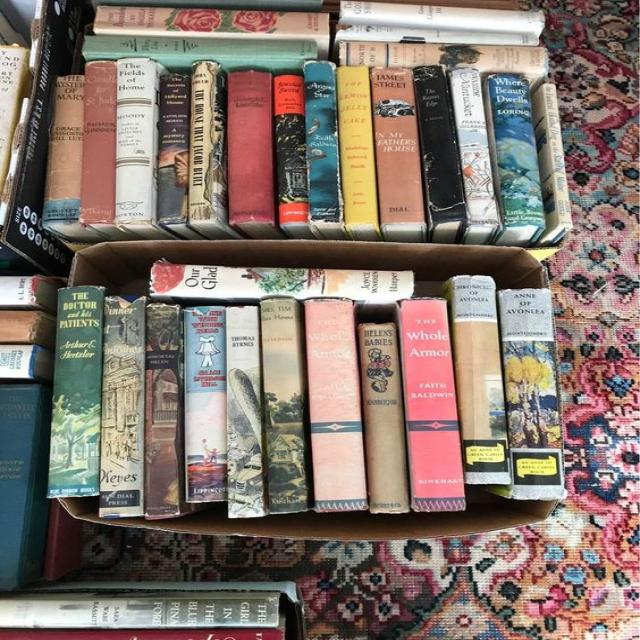book: (399, 299, 466, 513), (304, 299, 366, 509), (502, 292, 562, 499), (455, 281, 512, 483), (49, 289, 104, 496), (261, 300, 311, 514), (100, 297, 145, 516), (361, 323, 410, 513), (488, 74, 547, 225), (149, 263, 411, 297), (185, 306, 230, 501), (371, 68, 426, 224), (416, 66, 467, 224), (451, 71, 502, 225), (225, 307, 262, 517), (96, 5, 331, 37), (227, 68, 275, 220), (146, 306, 180, 518), (337, 42, 546, 76), (344, 0, 545, 32), (336, 64, 376, 223), (114, 60, 152, 219), (86, 36, 318, 61), (305, 63, 340, 222), (44, 76, 82, 218), (85, 62, 114, 222), (543, 85, 574, 228), (276, 76, 305, 225), (192, 61, 217, 222), (337, 24, 537, 43), (158, 76, 184, 222)
